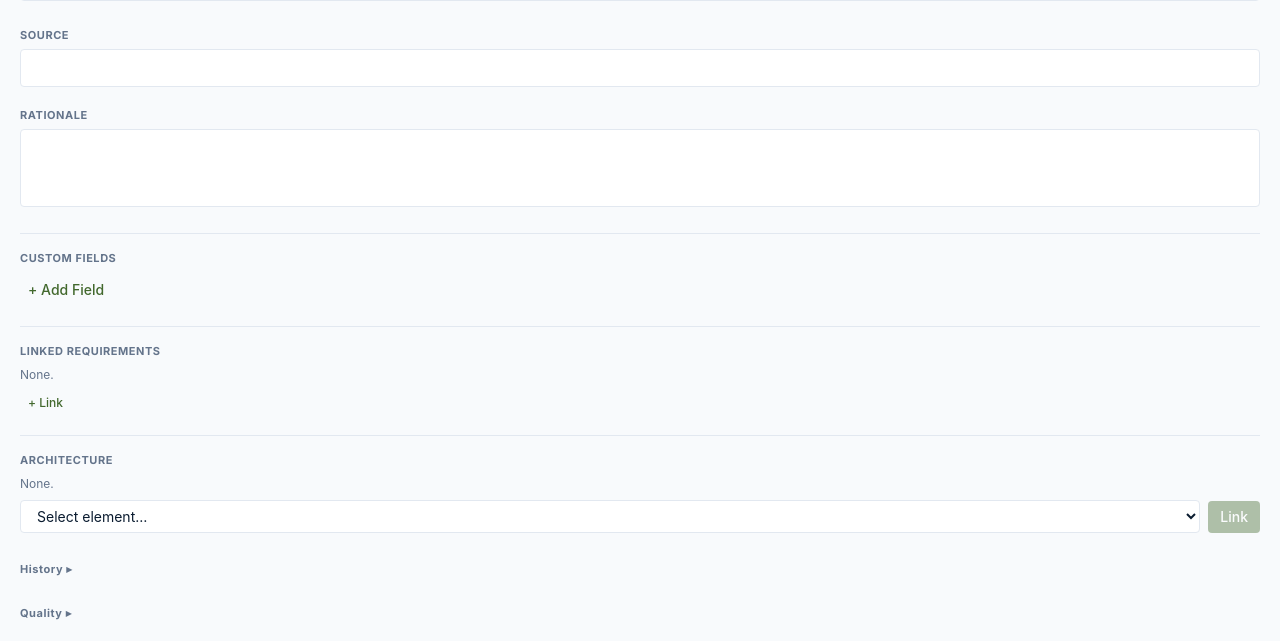
RequirementDetail quality section › shows the empty state for a clean requirement
(page scrolled)
Step 1. Click the button "Quality ▸" → x=46, y=613, box [20,605,72,621]
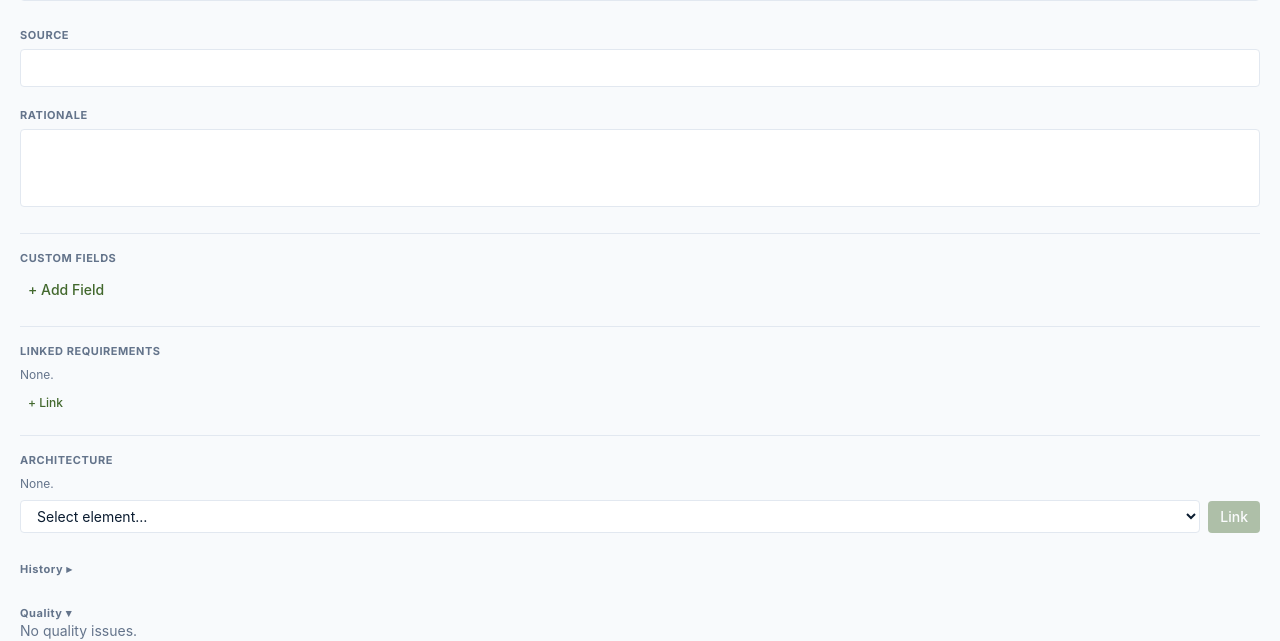
Expected: the text "No quality issues." is shown, [20,622,137,639]
